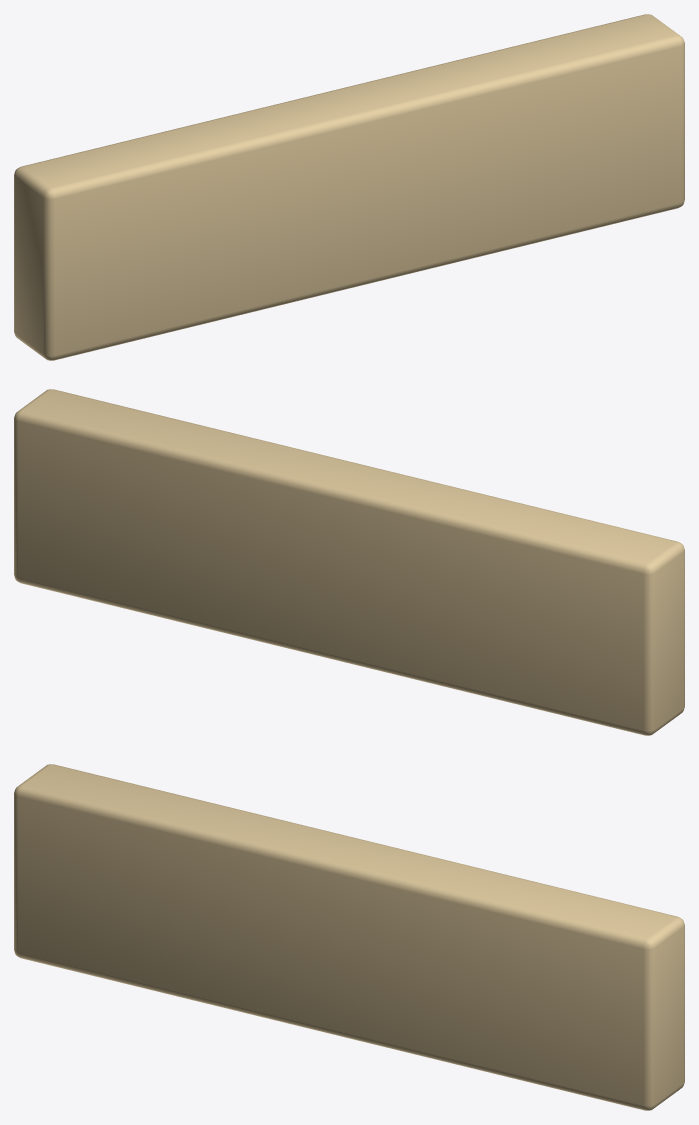
Rendered from puzzle_wall_x.glb.
3 views of the same model, one above another, from view 1: azimuth 30°, elevation 25°; view 2: azimuth 150°, elevation 25°; view 3: azimuth 330°, elevation 25° (orthographic).
Visible parts, largest first — view 1: puzzle_wall_x; view 2: puzzle_wall_x; view 3: puzzle_wall_x.
Boxes of the visible parts, x1,y1,x2,y2 form: puzzle_wall_x: (14,14,684,360); puzzle_wall_x: (14,389,684,735); puzzle_wall_x: (14,764,684,1110).
Size of the model in its own units: 0.35 by 0.09 by 0.035.
